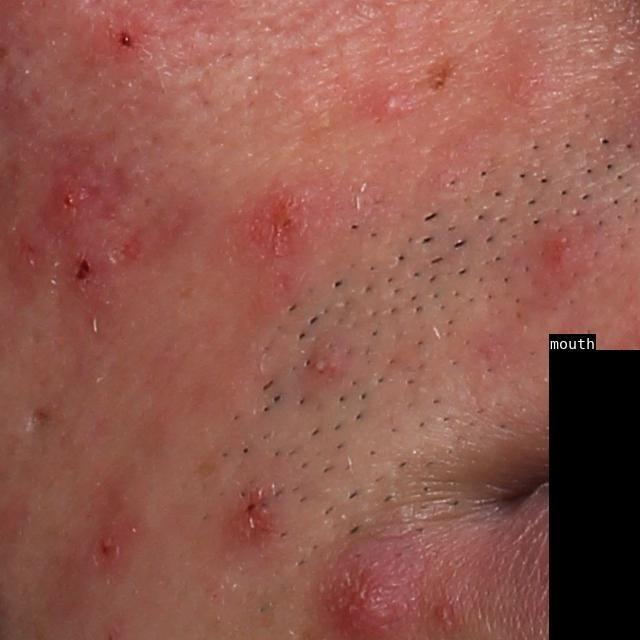atrophic_scar: (29, 407, 53, 432)
papule: (242, 190, 308, 260), (218, 483, 280, 543), (57, 242, 108, 301), (534, 229, 583, 281), (307, 345, 344, 385)
